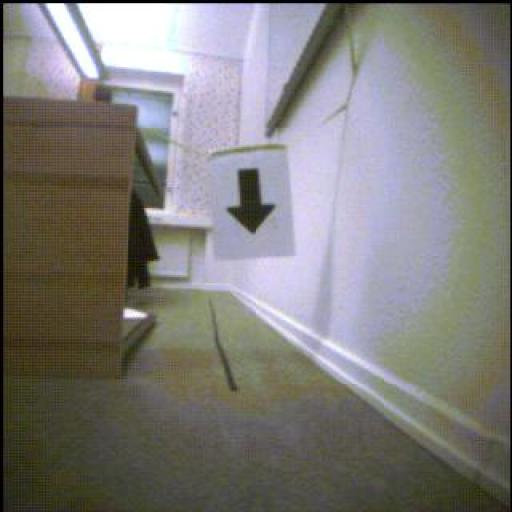arrow: (228, 169, 276, 235)
